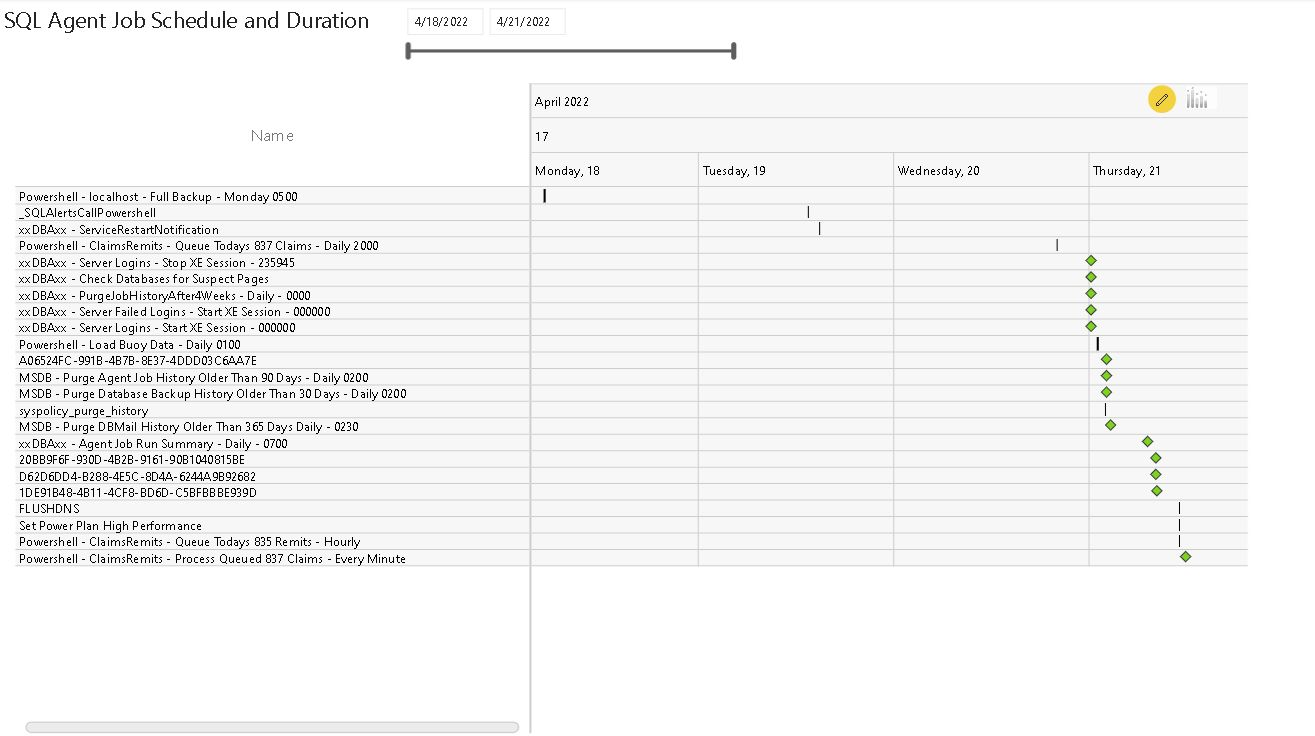

This screenshot's page, from the dashboard's own definition file:
{"tool":"powerbi","page":{"name":"LocalHost","canvas":[1280,720],"ordinal":0},"visuals":[{"type":"GanttChart4C3653EFFFEB4E7DA5A699CE198391E2","title":"Job Name - Duration","fields":{"actualStart":["Query1.LastRunDateTime"],"actualEnd":["Query1.EndDateTime"],"Task":["Query1.JobName"]},"box":[10.7,77.8,1209,641.9],"z":0},{"type":"slicer","fields":{"Values":["C0SQLMON.LastRunDateTime"]},"box":[384.2,0,345.3,71],"z":1000},{"type":"textbox","box":[0,0,384.2,42.8],"z":2000}]}

Visuals, with their boxes in screenshot pixels (x1, y1, x2, y2), scaled from the page's 1280x720 canvas onto the 1315x736 screenshot:
"Job Name - Duration" GanttChart4C3653EFFFEB4E7DA5A699CE198391E2: locate(11, 80, 1253, 735)
slicer - C0SQLMON.LastRunDateTime: locate(395, 0, 749, 73)
textbox: locate(0, 0, 395, 44)
